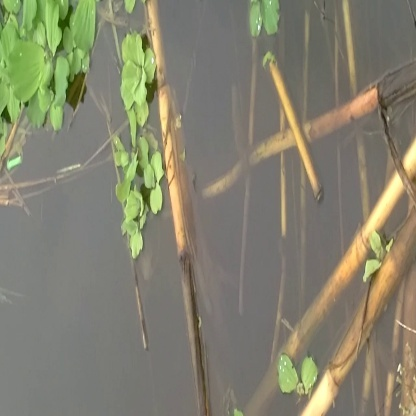branch: (204, 71, 379, 216)
